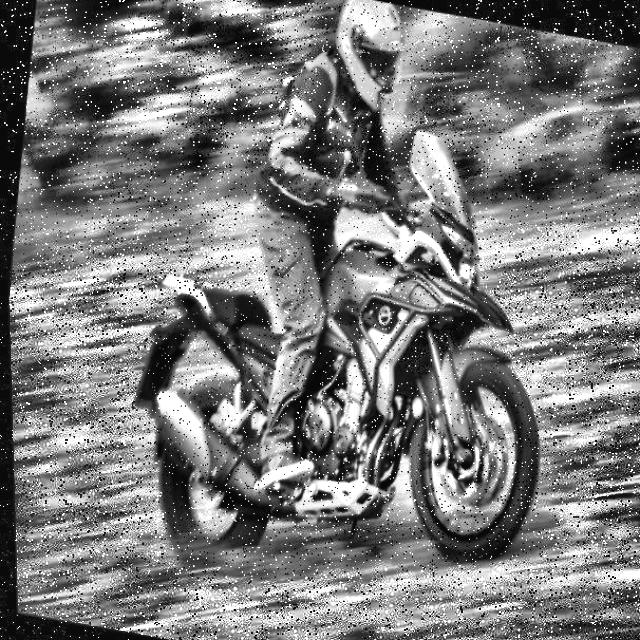Helmet: (319, 0, 414, 120)
